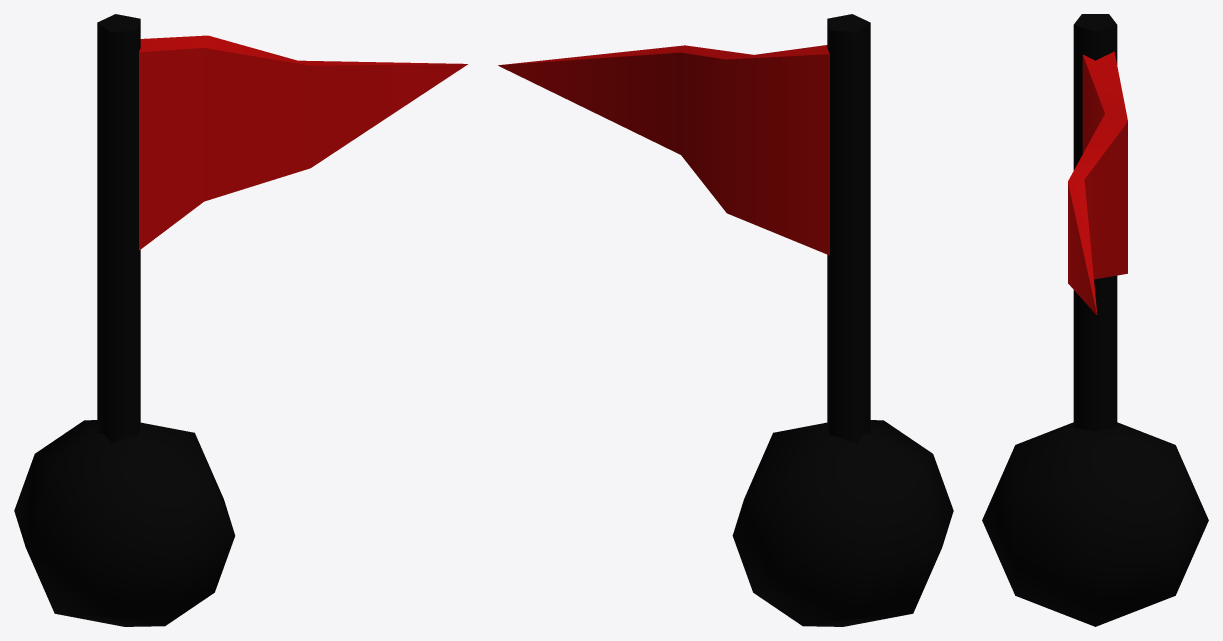
File: drapeau.FBX
The picture shows the model from 3 angles, left to right: view 1: azimuth 30°, elevation 25°; view 2: azimuth 150°, elevation 25°; view 3: azimuth 270°, elevation 25°; orthographic projection.
Parts seen in each view (by area): view 1: Sphère002; view 2: Sphère002; view 3: Sphère002.
Boxes of the visible parts, x1,y1,x2,y2 form: Sphère002: (14,14,467,626); Sphère002: (498,14,953,626); Sphère002: (982,14,1208,626).
Bounding box in the file's own units: 17.1 × 22.24 × 7.63.
